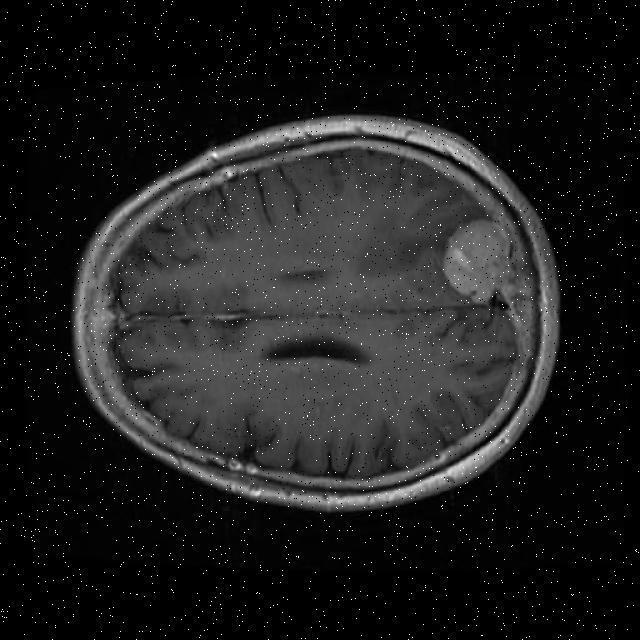Meningioma: (443, 219, 509, 302)
